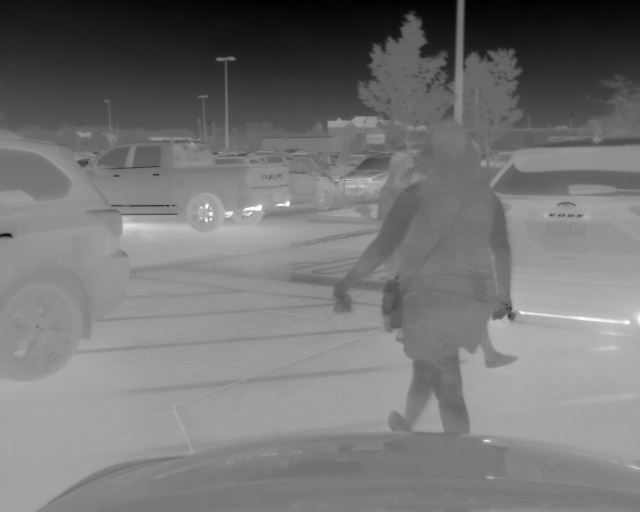car: (487, 136, 640, 339), (2, 138, 129, 382), (80, 138, 289, 232), (220, 152, 335, 224), (336, 152, 396, 201)
people: (330, 119, 494, 443), (374, 149, 417, 218)
